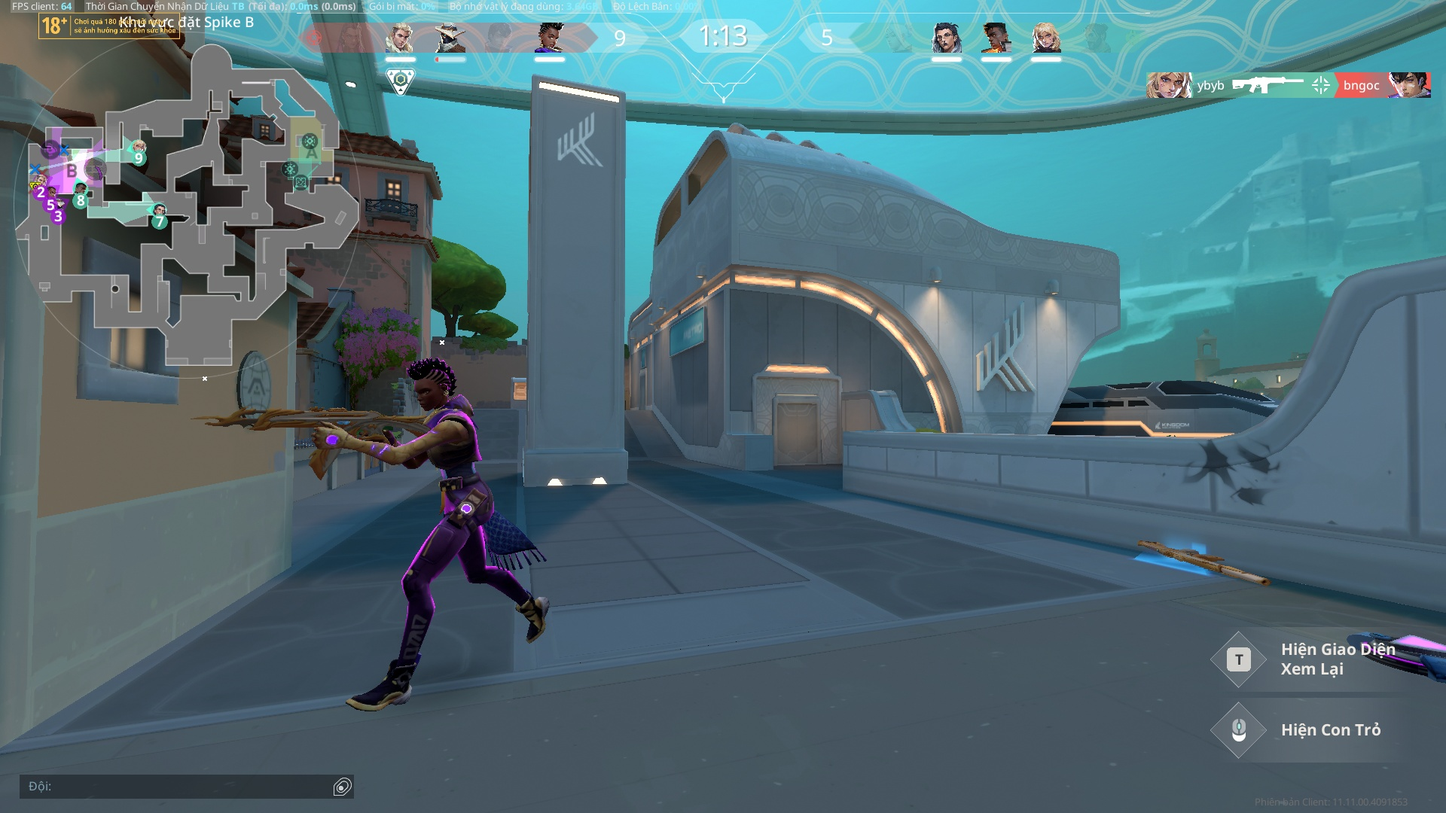body: (410, 403, 493, 495)
head: (411, 366, 457, 405)
